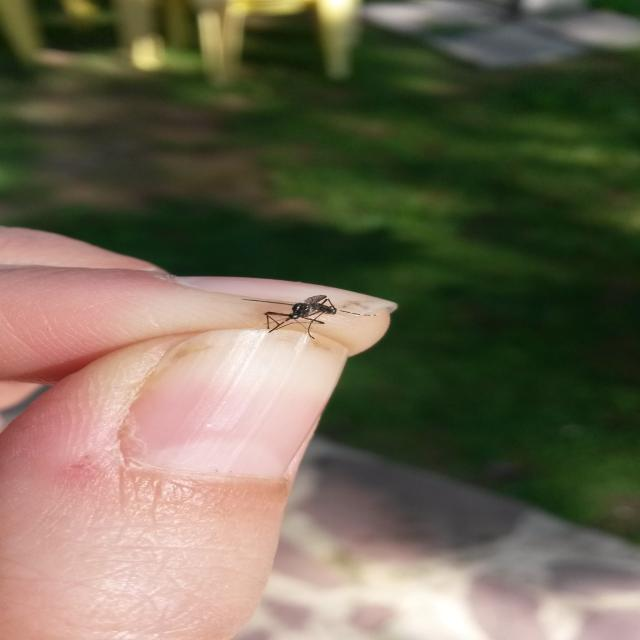albopictus: (238, 288, 387, 343)
